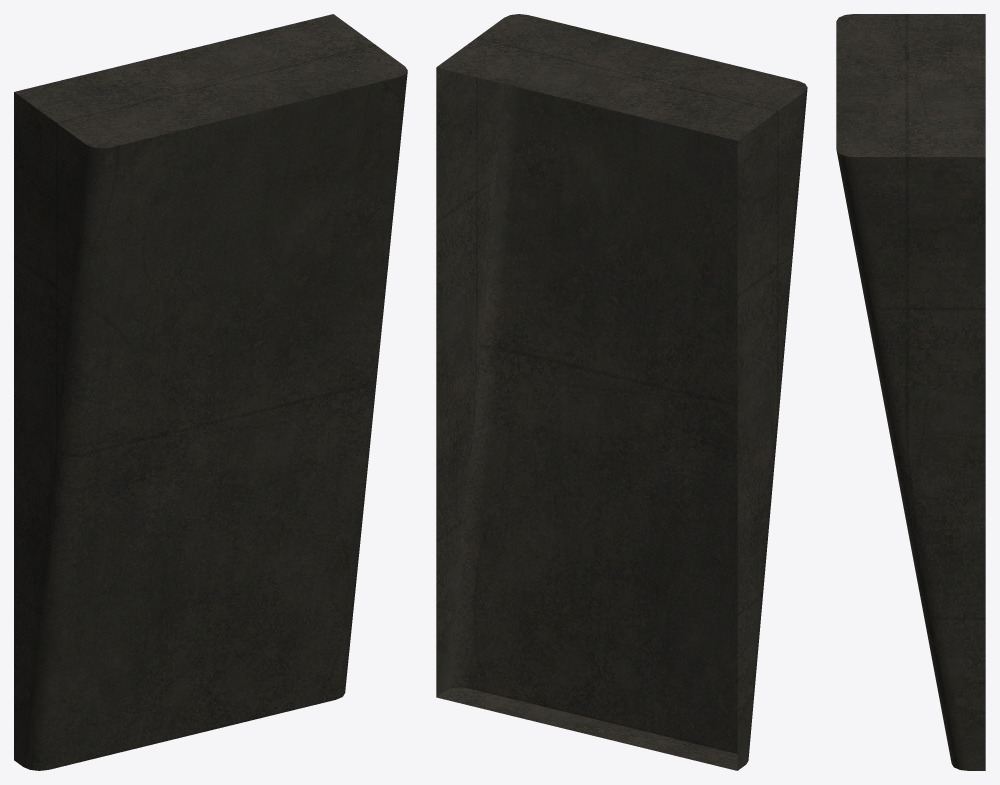
File: wall_element_1_bottom_short.glb
3 views of the same model, side by side, from view 1: azimuth 30°, elevation 25°; view 2: azimuth 150°, elevation 25°; view 3: azimuth 270°, elevation 25° (orthographic). The views are drawn at different scales.
Parts seen in each view (by area): view 1: wall_element_1_bottom_short; view 2: wall_element_1_bottom_short; view 3: wall_element_1_bottom_short.
Boxes of the visible parts, x1,y1,x2,y2 form: wall_element_1_bottom_short: (14, 14, 407, 770); wall_element_1_bottom_short: (436, 14, 807, 770); wall_element_1_bottom_short: (836, 14, 985, 770).
Bounding box in the file's own units: 1 × 2 × 0.44.
1 material, 1 textured.
